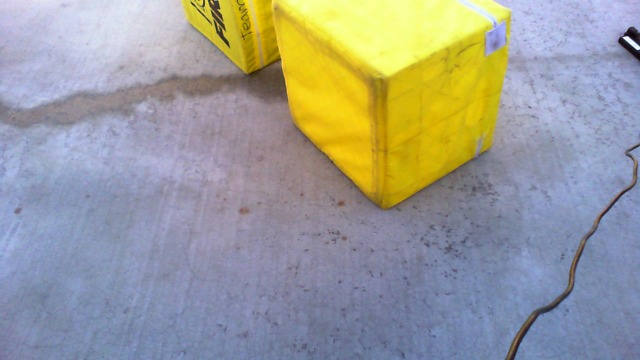cube: (269, 1, 514, 210), (180, 1, 298, 79)
